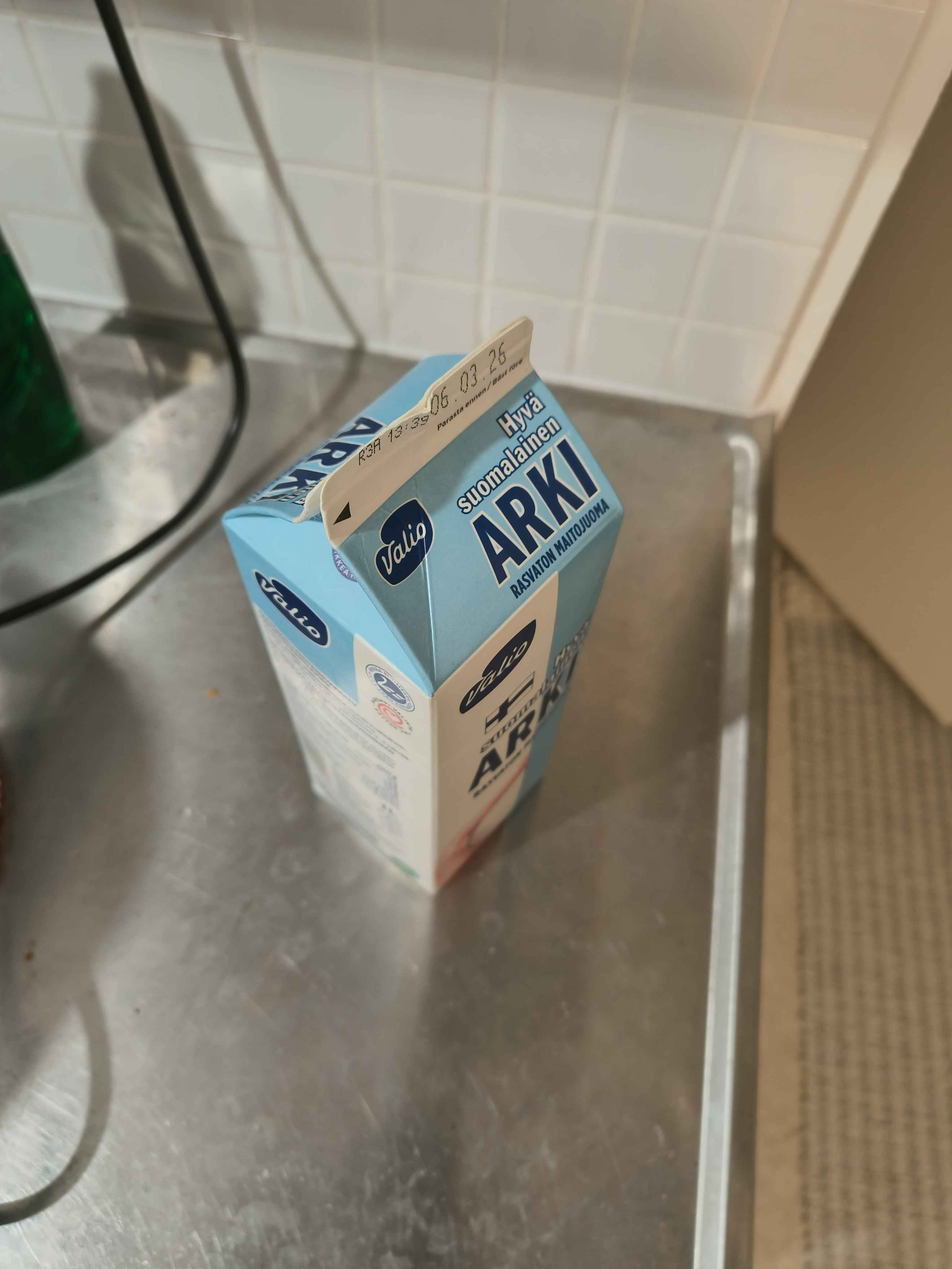Dryckeskartong: (221, 318, 622, 894)
